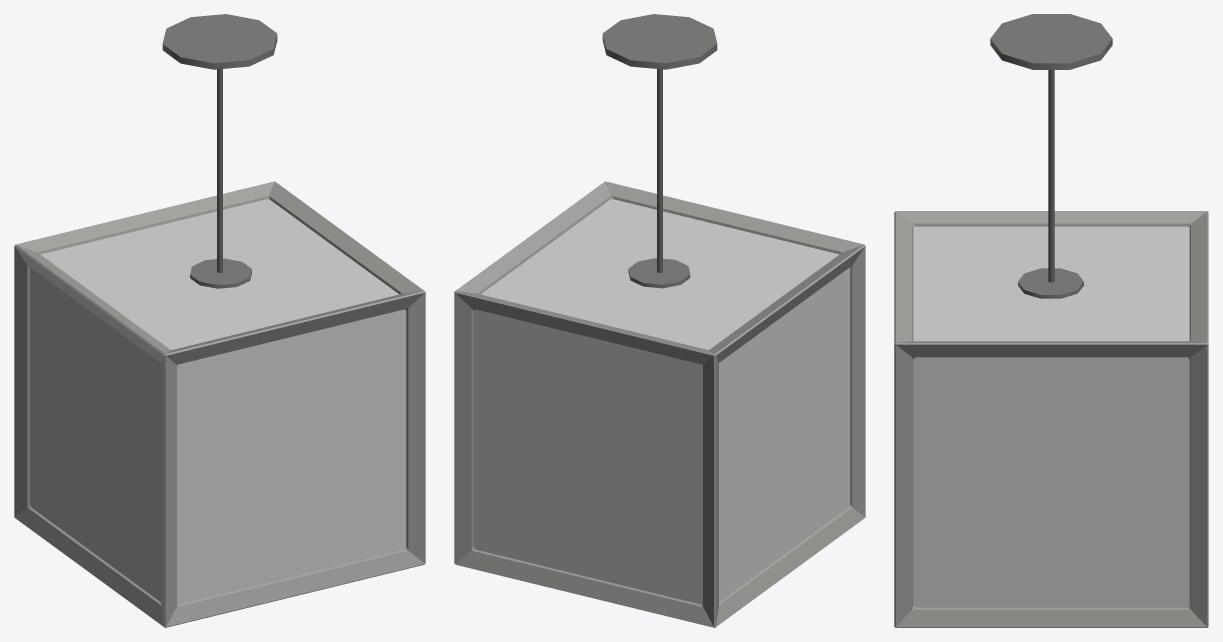
File: Light_Cube.glb
The picture shows the model from 3 angles, left to right: view 1: azimuth 30°, elevation 25°; view 2: azimuth 150°, elevation 25°; view 3: azimuth 270°, elevation 25°; orthographic projection. The views are drawn at different scales.
Visible parts, largest first — view 1: Light_Cube; view 2: Light_Cube; view 3: Light_Cube.
Boxes of the visible parts, x1=… form: Light_Cube: x1=14, y1=14, x2=425, y2=627; Light_Cube: x1=454, y1=14, x2=865, y2=627; Light_Cube: x1=894, y1=14, x2=1208, y2=627.
Size of the model in its own units: 0.2757 by 0.5062 by 0.2757.
Materials: 4 (4 with a texture image).
